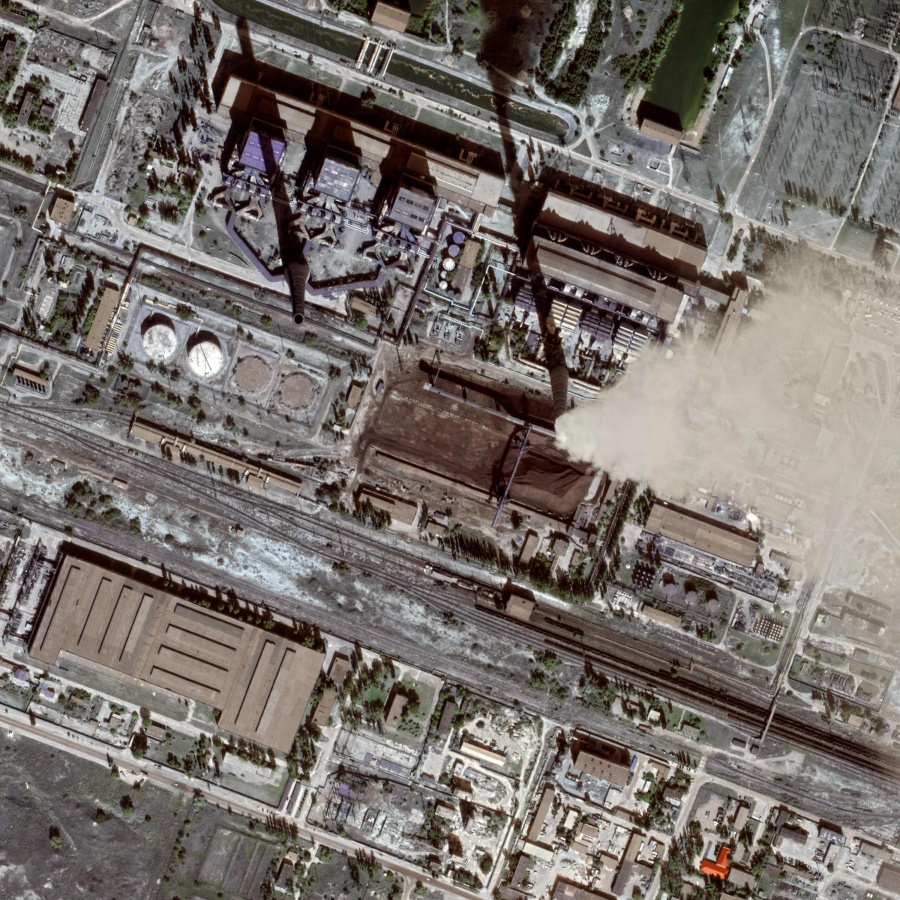PowerPlant: (134, 7, 761, 516)
